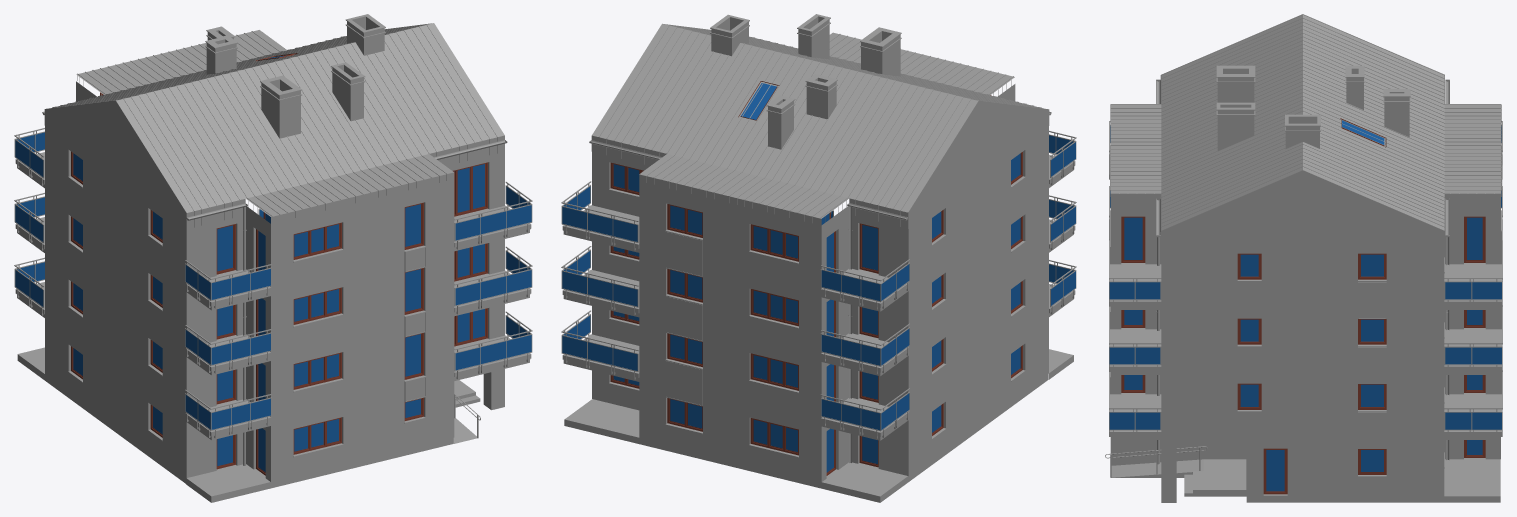
Rendered from building.glb.
3 views of the same model, side by side, from view 1: azimuth 30°, elevation 25°; view 2: azimuth 150°, elevation 25°; view 3: azimuth 270°, elevation 25° (orthographic).
Visible parts, largest first — view 1: Buffer Object (×12), roof, foundation_wall, chimney, metal_cover, eneter_floor, gutters_003; view 2: Buffer Object (×13), roof, foundation_wall, chimney, metal_cover, gutters_003; view 3: Buffer Object (×12), roof, foundation_wall, chimney, eneter_floor, metal_cover, roof_plate, gutters_003, gutters_002.
Boxes of the visible parts, box(x1,y1,x2,y2) form: Buffer Object (×12): box(14, 81, 532, 502); roof: box(44, 23, 504, 229); foundation_wall: box(45, 310, 454, 488); chimney: box(205, 14, 385, 138); metal_cover: box(15, 152, 531, 436); eneter_floor: box(453, 380, 480, 443); gutters_003: box(42, 111, 507, 220); Buffer Object (×13): box(561, 83, 1076, 502); roof: box(591, 23, 1049, 228); foundation_wall: box(592, 309, 1048, 488); chimney: box(710, 14, 901, 149); metal_cover: box(562, 155, 1075, 436); gutters_003: box(589, 111, 1051, 220); Buffer Object (×12): box(1109, 121, 1502, 502); roof: box(1110, 14, 1501, 246); foundation_wall: box(1110, 431, 1500, 502); chimney: box(1216, 65, 1410, 151); eneter_floor: box(1111, 459, 1246, 496); metal_cover: box(1109, 145, 1501, 436); roof_plate: box(1110, 193, 1500, 200); gutters_003: box(1156, 79, 1449, 237); gutters_002: box(1156, 237, 1449, 464).
Bounding box in the file's own units: 9.18 × 9.52 × 9.82.
